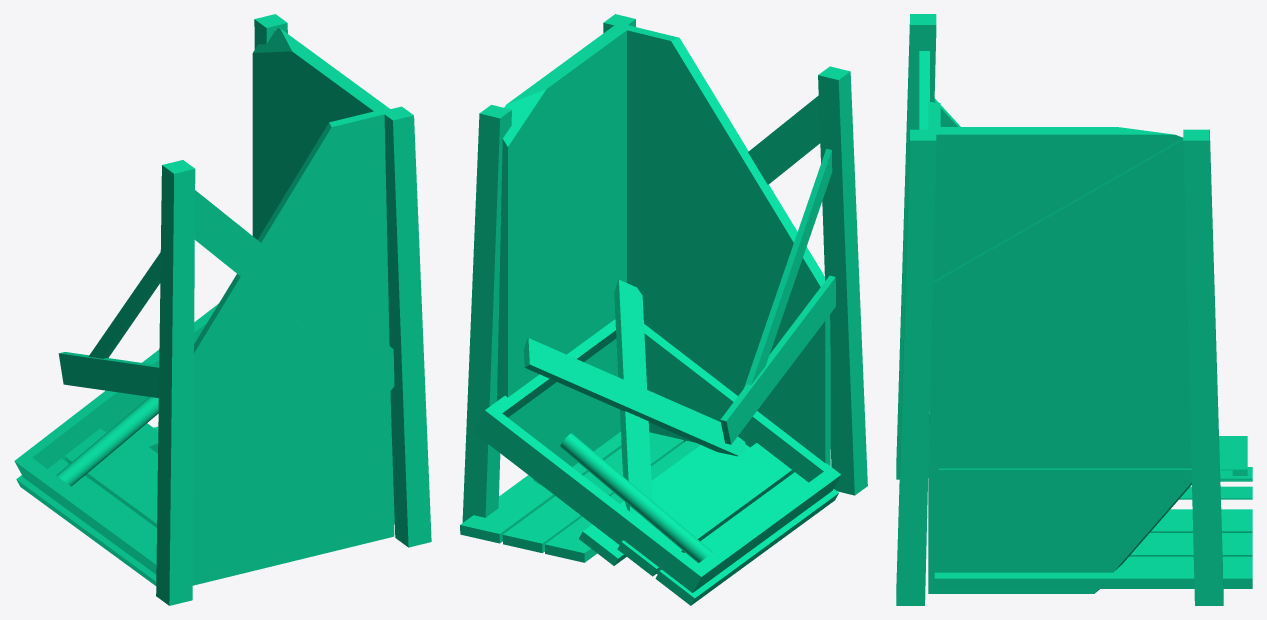
File: Débris3.fbx
3 views of the same model, side by side, from view 1: azimuth 30°, elevation 25°; view 2: azimuth 150°, elevation 25°; view 3: azimuth 270°, elevation 25° (orthographic). The views are drawn at different scales.
Visible parts, largest first — view 1: Cube.599, Cube.592, Cube.591, Cube.587, Cube.582, Cube.597, Cube.598, Cube.589, Cylinder.055, Cube.584, Cube.595, Cube.590; view 2: Cube.599, Cube.582, Cube.592, Cube.590, Cube.588, Cube.597, Cube.586, Cube.589, Cube.598, Cube.595, Cylinder.055, Cube.594 (+4 smaller); view 3: Cube.599, Cube.590, Cube.591, Cube.593, Cube.583, Cube.592, Cube.594, Cube.582, Cube.596, Cube.587, Cube.595.
Boxes of the visible parts, bbox=[...] form: Cube.599: bbox=[192, 28, 394, 585]; Cube.592: bbox=[156, 160, 195, 605]; Cube.591: bbox=[384, 106, 431, 547]; Cube.587: bbox=[194, 190, 394, 393]; Cube.582: bbox=[14, 303, 218, 574]; Cube.597: bbox=[64, 428, 157, 527]; Cube.598: bbox=[16, 458, 156, 585]; Cube.589: bbox=[58, 352, 159, 397]; Cylinder.055: bbox=[56, 397, 158, 486]; Cube.584: bbox=[88, 252, 160, 358]; Cube.595: bbox=[106, 423, 158, 469]; Cube.590: bbox=[254, 14, 287, 49]; Cube.599: bbox=[497, 23, 830, 485]; Cube.582: bbox=[473, 319, 840, 592]; Cube.592: bbox=[818, 66, 867, 495]; Cube.590: bbox=[462, 104, 511, 522]; Cube.588: bbox=[523, 338, 745, 456]; Cube.597: bbox=[617, 443, 791, 576]; Cube.586: bbox=[614, 279, 652, 515]; Cube.589: bbox=[720, 275, 835, 444]; Cube.598: bbox=[655, 472, 838, 605]; Cube.595: bbox=[579, 444, 749, 565]; Cylinder.055: bbox=[560, 433, 712, 562]; Cube.594: bbox=[502, 432, 683, 553]; Cube.599: bbox=[928, 101, 1191, 593]; Cube.590: bbox=[1183, 129, 1223, 605]; Cube.591: bbox=[896, 129, 936, 605]; Cube.593: bbox=[934, 556, 1252, 588]; Cube.583: bbox=[932, 138, 1183, 298]; Cube.592: bbox=[896, 14, 936, 479]; Cube.594: bbox=[1129, 533, 1252, 556]; Cube.582: bbox=[939, 436, 1247, 475]; Cube.596: bbox=[1150, 509, 1252, 532]; Cube.587: bbox=[919, 51, 929, 422]; Cube.595: bbox=[1179, 486, 1252, 499].
Bounding box in the file's own units: 88.11 × 138 × 95.92.
